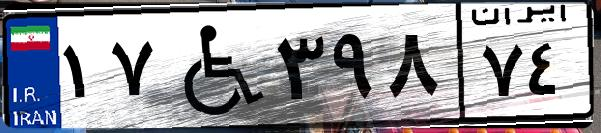1: (57, 26, 110, 100)
3: (270, 28, 330, 110)
4: (525, 38, 570, 115)
7: (475, 38, 525, 113), (110, 28, 158, 98)
8: (385, 28, 445, 110)
9: (330, 28, 385, 110)
ژ (معلولین و جانبازان): (158, 12, 270, 120)
